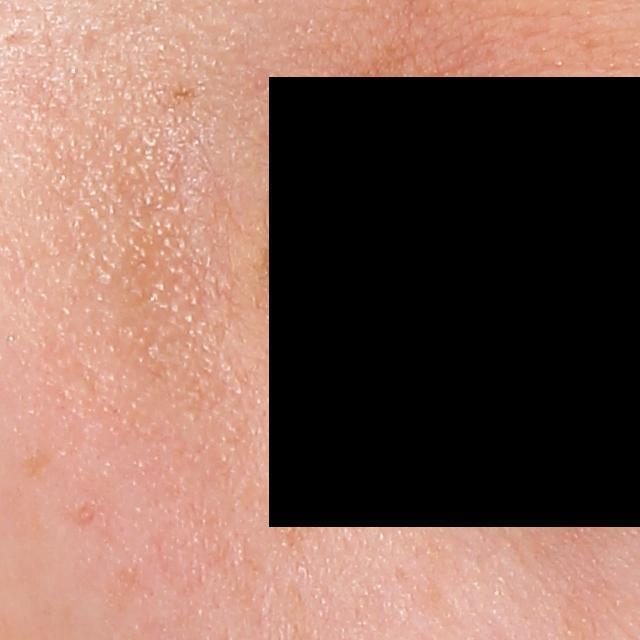melasma: (270, 496, 320, 557), (19, 448, 53, 482)
